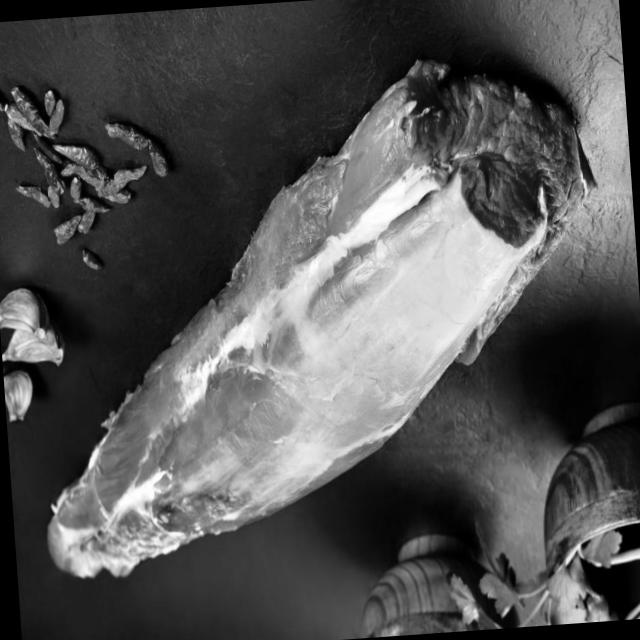filet: (170, 79, 608, 410)
